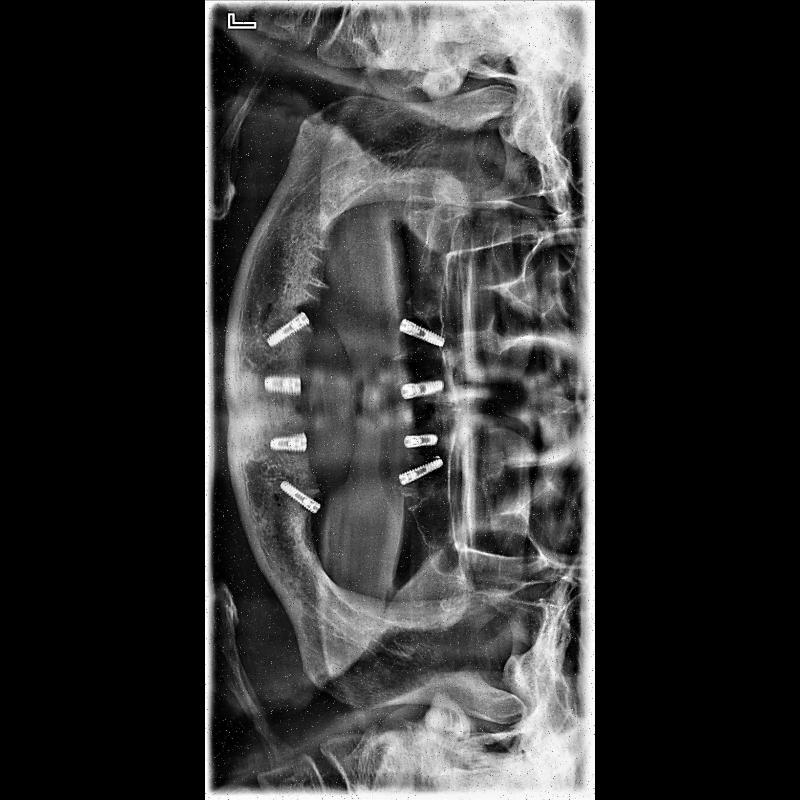osstem: (260, 307, 314, 347), (272, 476, 326, 512), (397, 454, 445, 494), (397, 318, 447, 348), (394, 376, 446, 402), (400, 426, 442, 448), (270, 433, 308, 457)
